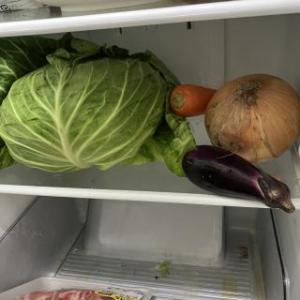cabbage: (0, 31, 196, 179)
carrot: (168, 83, 218, 119)
eggplant: (180, 143, 296, 216)
onion: (202, 73, 300, 167)
